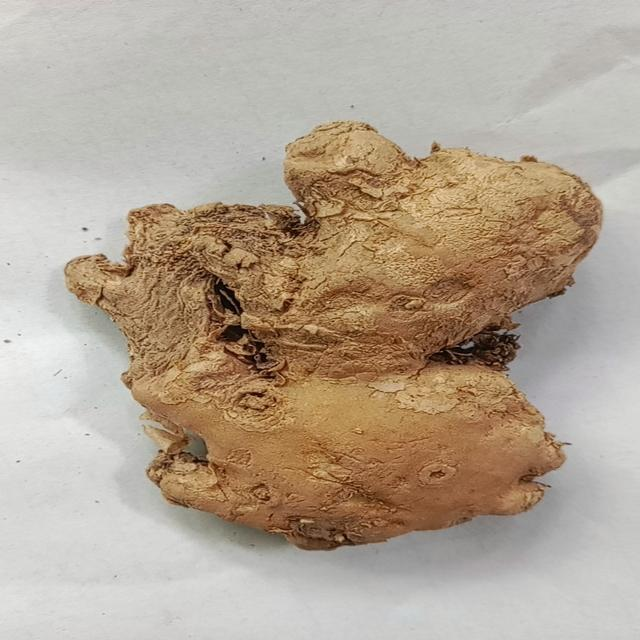ginger: (101, 132, 586, 546)
